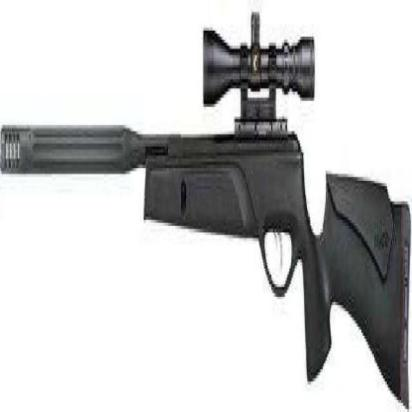Gun: (0, 6, 412, 412)
